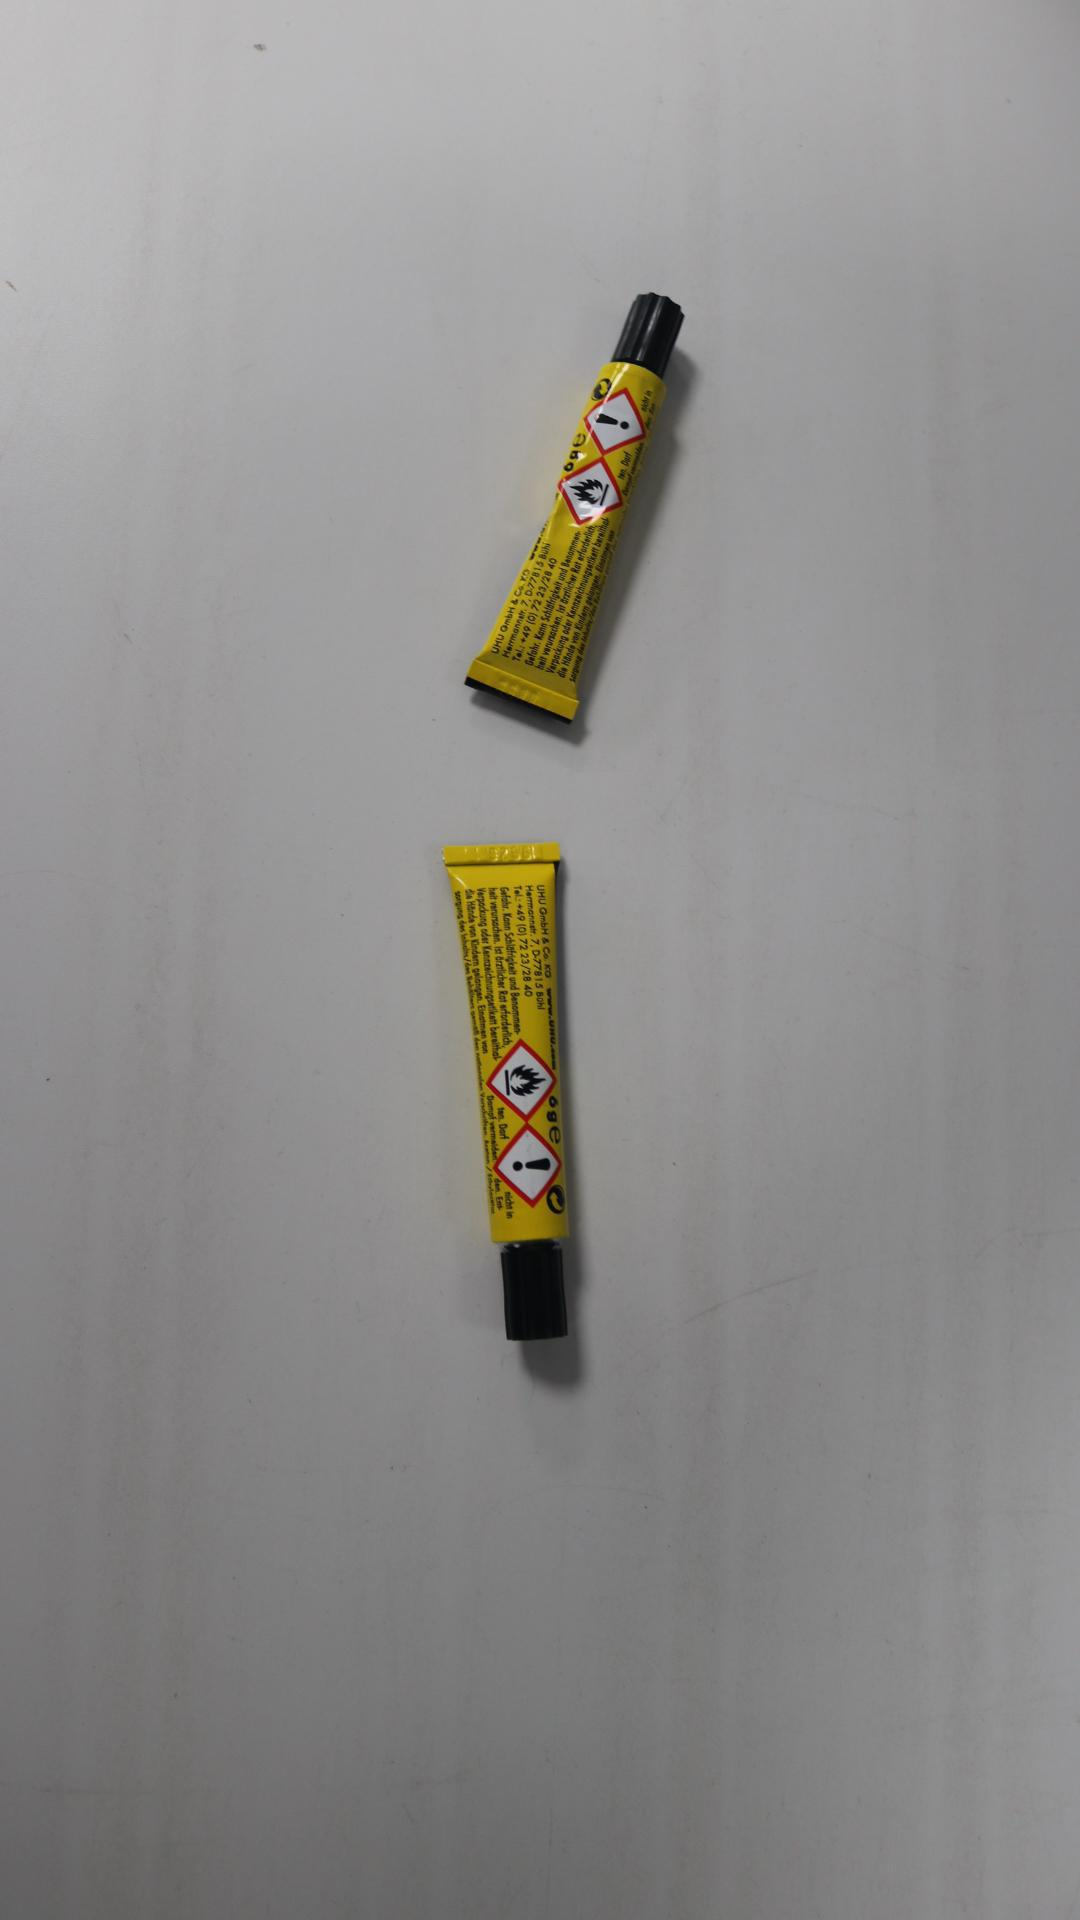Head: (646, 324, 659, 338), (530, 1286, 543, 1297)
Tail: (517, 683, 536, 702), (493, 847, 512, 861)
Tube: (466, 293, 685, 725), (442, 841, 574, 1342)
